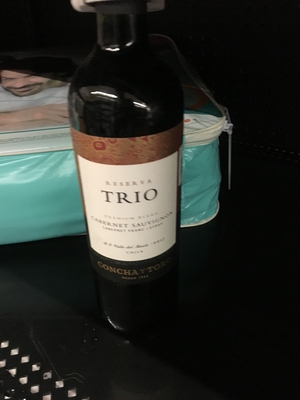trio cabernet sauvignon: (48, 1, 202, 332)
